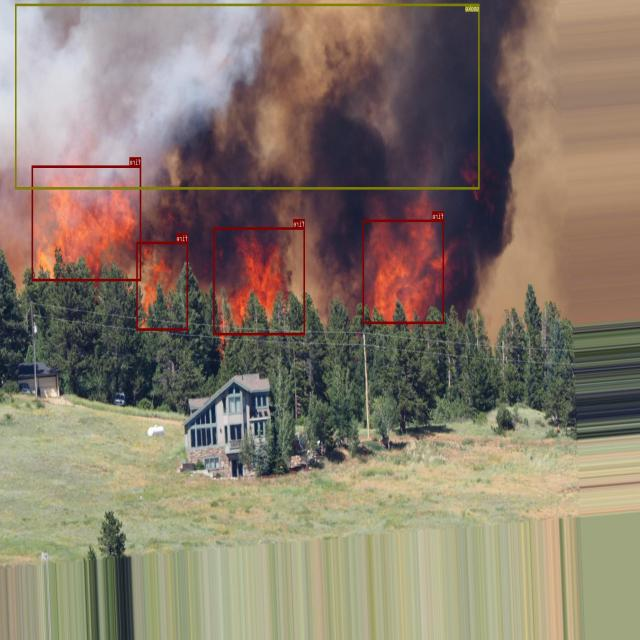fire: (32, 165, 141, 281), (214, 227, 305, 335), (363, 219, 444, 323), (137, 242, 188, 331)
smoke: (15, 3, 480, 189)
